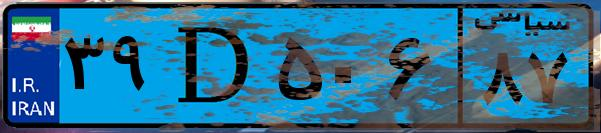0: (330, 28, 385, 110)
3: (57, 26, 110, 100)
5: (270, 28, 330, 110)
6: (385, 28, 445, 110)
7: (525, 38, 570, 115)
8: (475, 38, 525, 113)
9: (110, 28, 158, 98)
D: (158, 12, 270, 120)
